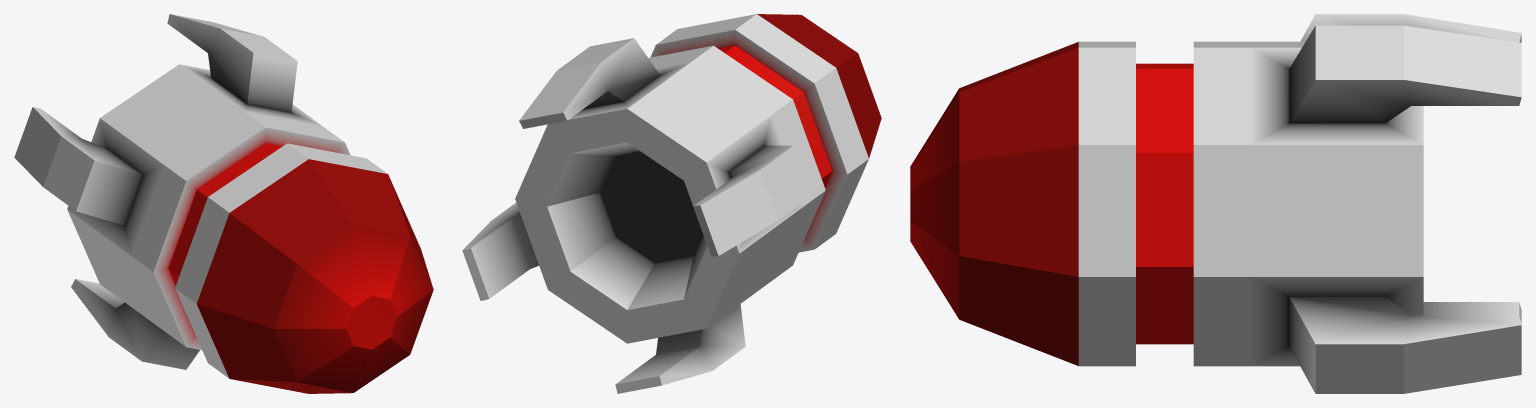
The model's file is Rocket.fbx.
The picture shows the model from 3 angles, left to right: view 1: azimuth 30°, elevation 25°; view 2: azimuth 150°, elevation 25°; view 3: azimuth 270°, elevation 25°; orthographic projection. The views are drawn at different scales.
Parts seen in each view (by area): view 1: Rocket; view 2: Rocket; view 3: Rocket.
Boxes of the visible parts, x1,y1,x2,y2 form: Rocket: (14,14,433,393); Rocket: (462,14,881,393); Rocket: (910,14,1521,393).
Bounding box in the file's own units: 2.56 × 2.56 × 3.54.
